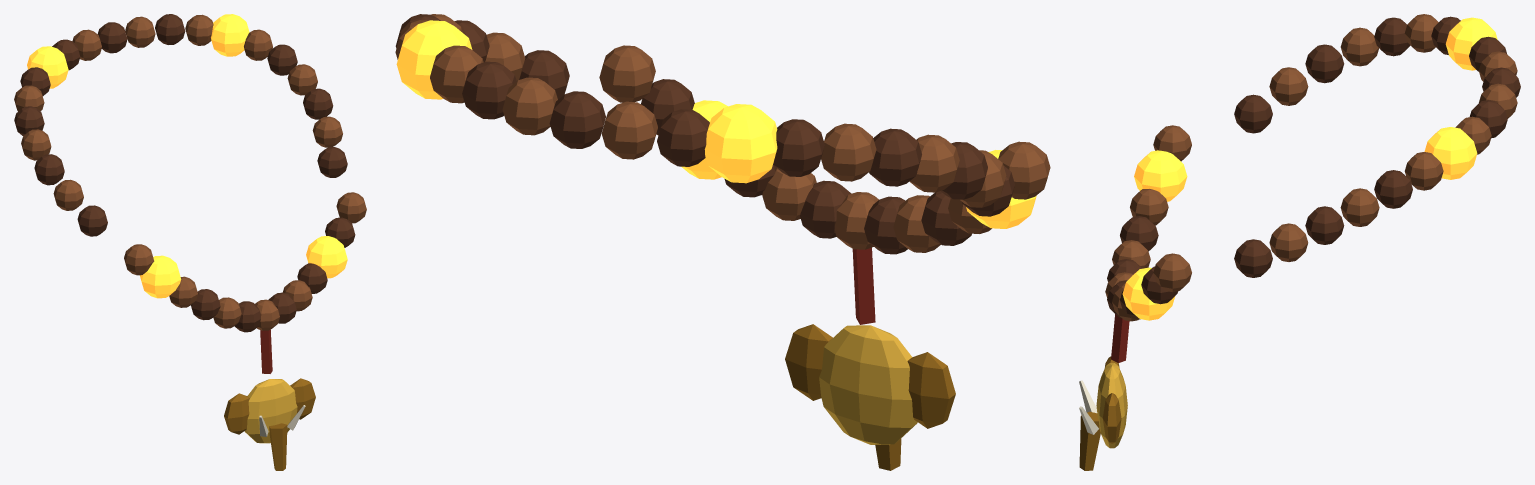
File: prayer_beads.glb
3 renders of one model, left to right at view 1: azimuth 30°, elevation 25°; view 2: azimuth 150°, elevation 25°; view 3: azimuth 270°, elevation 25°, orthographic. The views are drawn at different scales.
Visible parts, largest first — view 1: prayer_beads; view 2: prayer_beads; view 3: prayer_beads.
Boxes of the visible parts, left/top/right/bottom form: prayer_beads: left=14, top=14, right=366, bottom=470; prayer_beads: left=395, top=14, right=1050, bottom=470; prayer_beads: left=1079, top=14, right=1520, bottom=470.
Size of the model in its own units: 0.6718 by 0.7079 by 0.7038.
